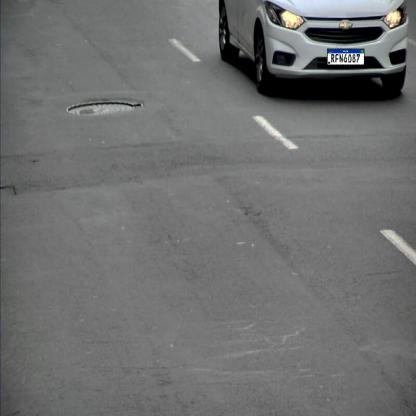PlacaM: (327, 49, 365, 65)
